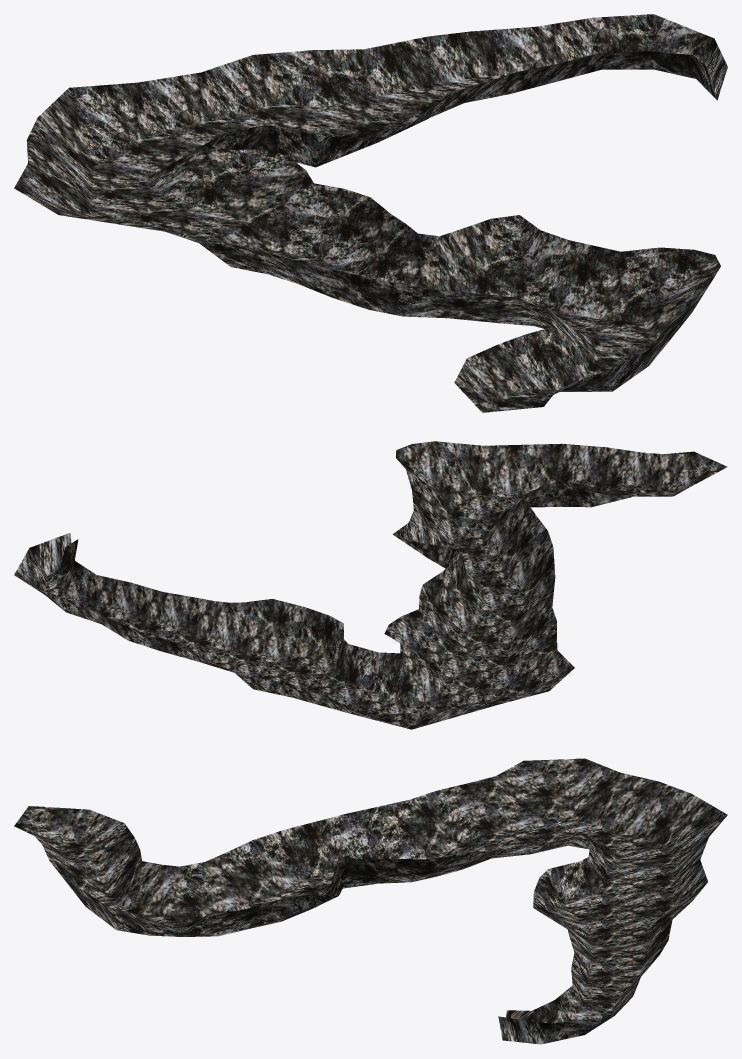
File: OVERHILL_A_01_MOUNTAIN_VALLEY_01.fbx
3 views of the same model, one above another, from view 1: azimuth 30°, elevation 25°; view 2: azimuth 150°, elevation 25°; view 3: azimuth 270°, elevation 25° (orthographic). The views are drawn at different scales.
Parts seen in each view (by area): view 1: OVERHILL_A_01_MOUNTAIN_VALLEY_01; view 2: OVERHILL_A_01_MOUNTAIN_VALLEY_01; view 3: OVERHILL_A_01_MOUNTAIN_VALLEY_01.
Boxes of the visible parts, x1,y1,x2,y2 form: OVERHILL_A_01_MOUNTAIN_VALLEY_01: (14, 14, 727, 412); OVERHILL_A_01_MOUNTAIN_VALLEY_01: (14, 441, 727, 729); OVERHILL_A_01_MOUNTAIN_VALLEY_01: (14, 758, 727, 1044).
Size of the model in its own units: 2141235 by 179098 by 2434672.
1 material, 1 textured.
